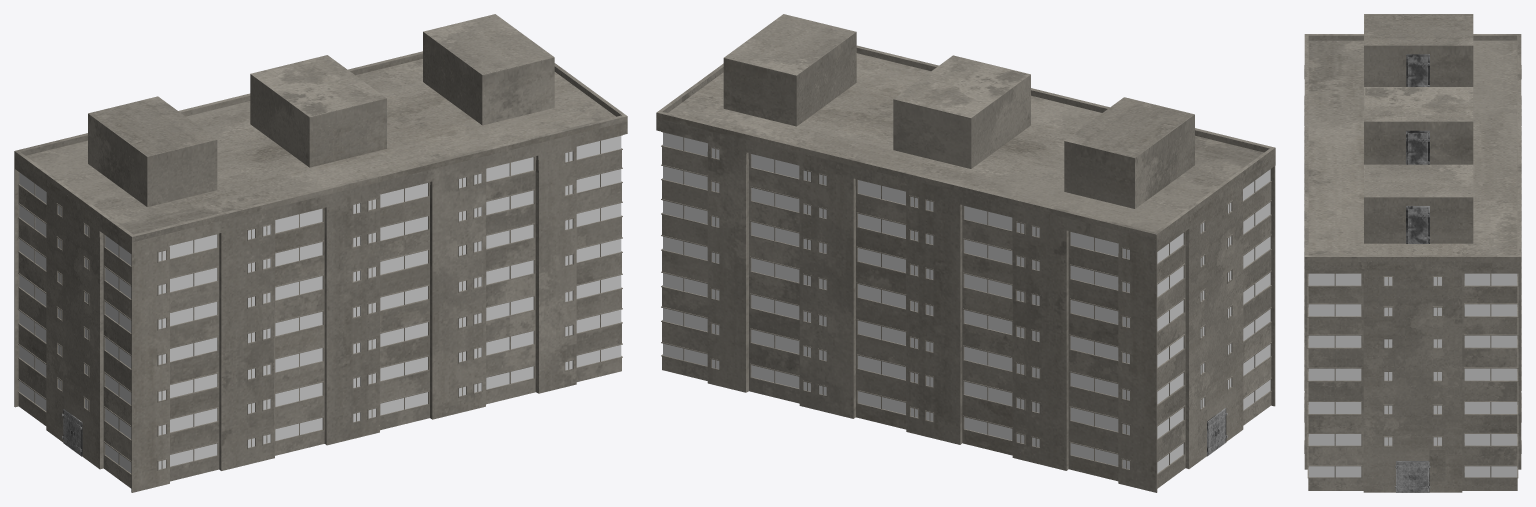
File: Building2Mesh.fbx
The picture shows the model from 3 angles, left to right: view 1: azimuth 30°, elevation 25°; view 2: azimuth 150°, elevation 25°; view 3: azimuth 270°, elevation 25°; orthographic projection. The views are drawn at different scales.
Parts seen in each view (by area): view 1: F_Walls, RoofTop, F_Windows, L_Walls, L_Windows, B_Walls; view 2: B_Walls, RoofTop, B_Windows, L_Walls, L_Windows, F_Walls; view 3: RoofTop, R_Walls, R_Windows, F_Walls, B_Walls, Door3, Door2, Door1, R_R_Door, R_L_Door.
Boxes of the visible parts, left/top/right/bottom form: F_Walls: left=131, top=121, right=627, bottom=492; RoofTop: left=14, top=14, right=627, bottom=242; F_Windows: left=158, top=136, right=621, bottom=469; L_Walls: left=14, top=157, right=131, bottom=488; L_Windows: left=19, top=172, right=131, bottom=473; B_Walls: left=14, top=169, right=19, bottom=407; B_Walls: left=656, top=118, right=1157, bottom=492; RoofTop: left=656, top=14, right=1275, bottom=240; B_Windows: left=663, top=132, right=1129, bottom=469; L_Walls: left=1156, top=154, right=1275, bottom=488; L_Windows: left=1157, top=169, right=1270, bottom=473; F_Walls: left=1270, top=166, right=1275, bottom=406; RoofTop: left=1304, top=14, right=1521, bottom=262; R_Walls: left=1304, top=261, right=1521, bottom=492; R_Windows: left=1308, top=273, right=1517, bottom=477; F_Walls: left=1304, top=65, right=1308, bottom=477; B_Walls: left=1517, top=65, right=1521, bottom=477; Door3: left=1408, top=208, right=1429, bottom=243; Door2: left=1408, top=133, right=1429, bottom=164; Door1: left=1408, top=56, right=1429, bottom=86; R_R_Door: left=1412, top=462, right=1430, bottom=492; R_L_Door: left=1395, top=462, right=1412, bottom=492.
Bounding box in the file's own units: 23.91 × 13.76 × 9.78.
13 materials, 12 textured.
